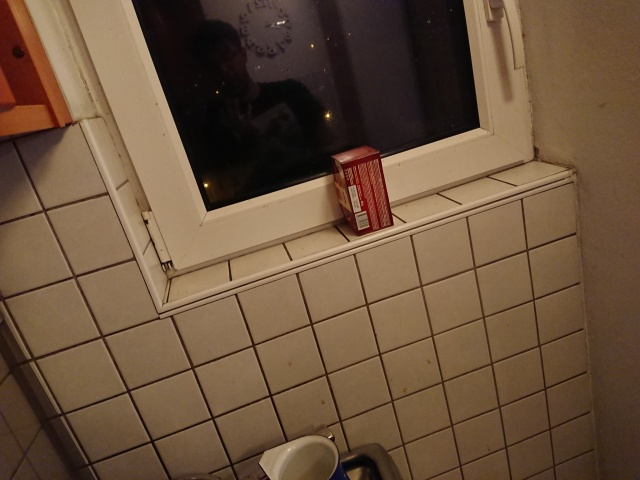Franck Apple Cinnamon Tea 60g: (328, 142, 397, 239)
